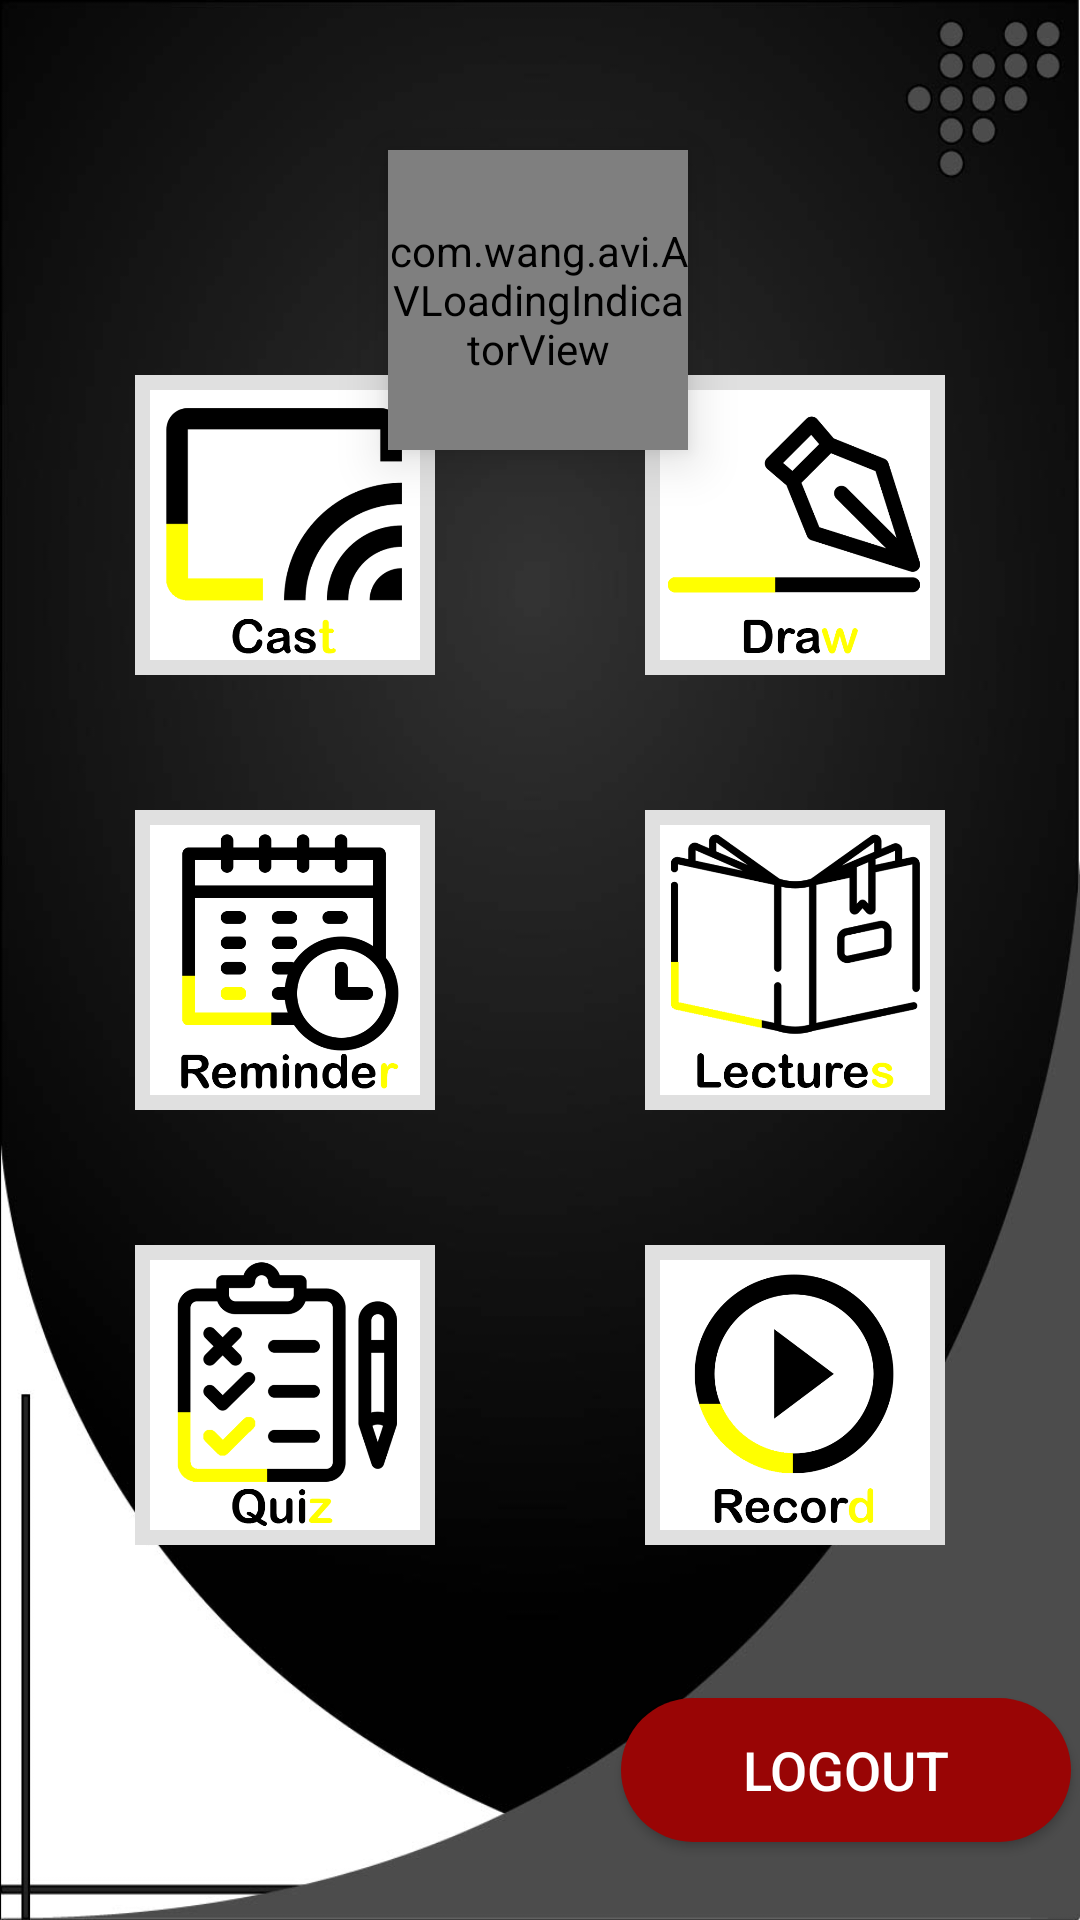

Icons on this 1080px x 1920px Android screen, each with the point to tap as (x=x, y=y):
signature: (x=795, y=525)
timetable: (x=285, y=960)
